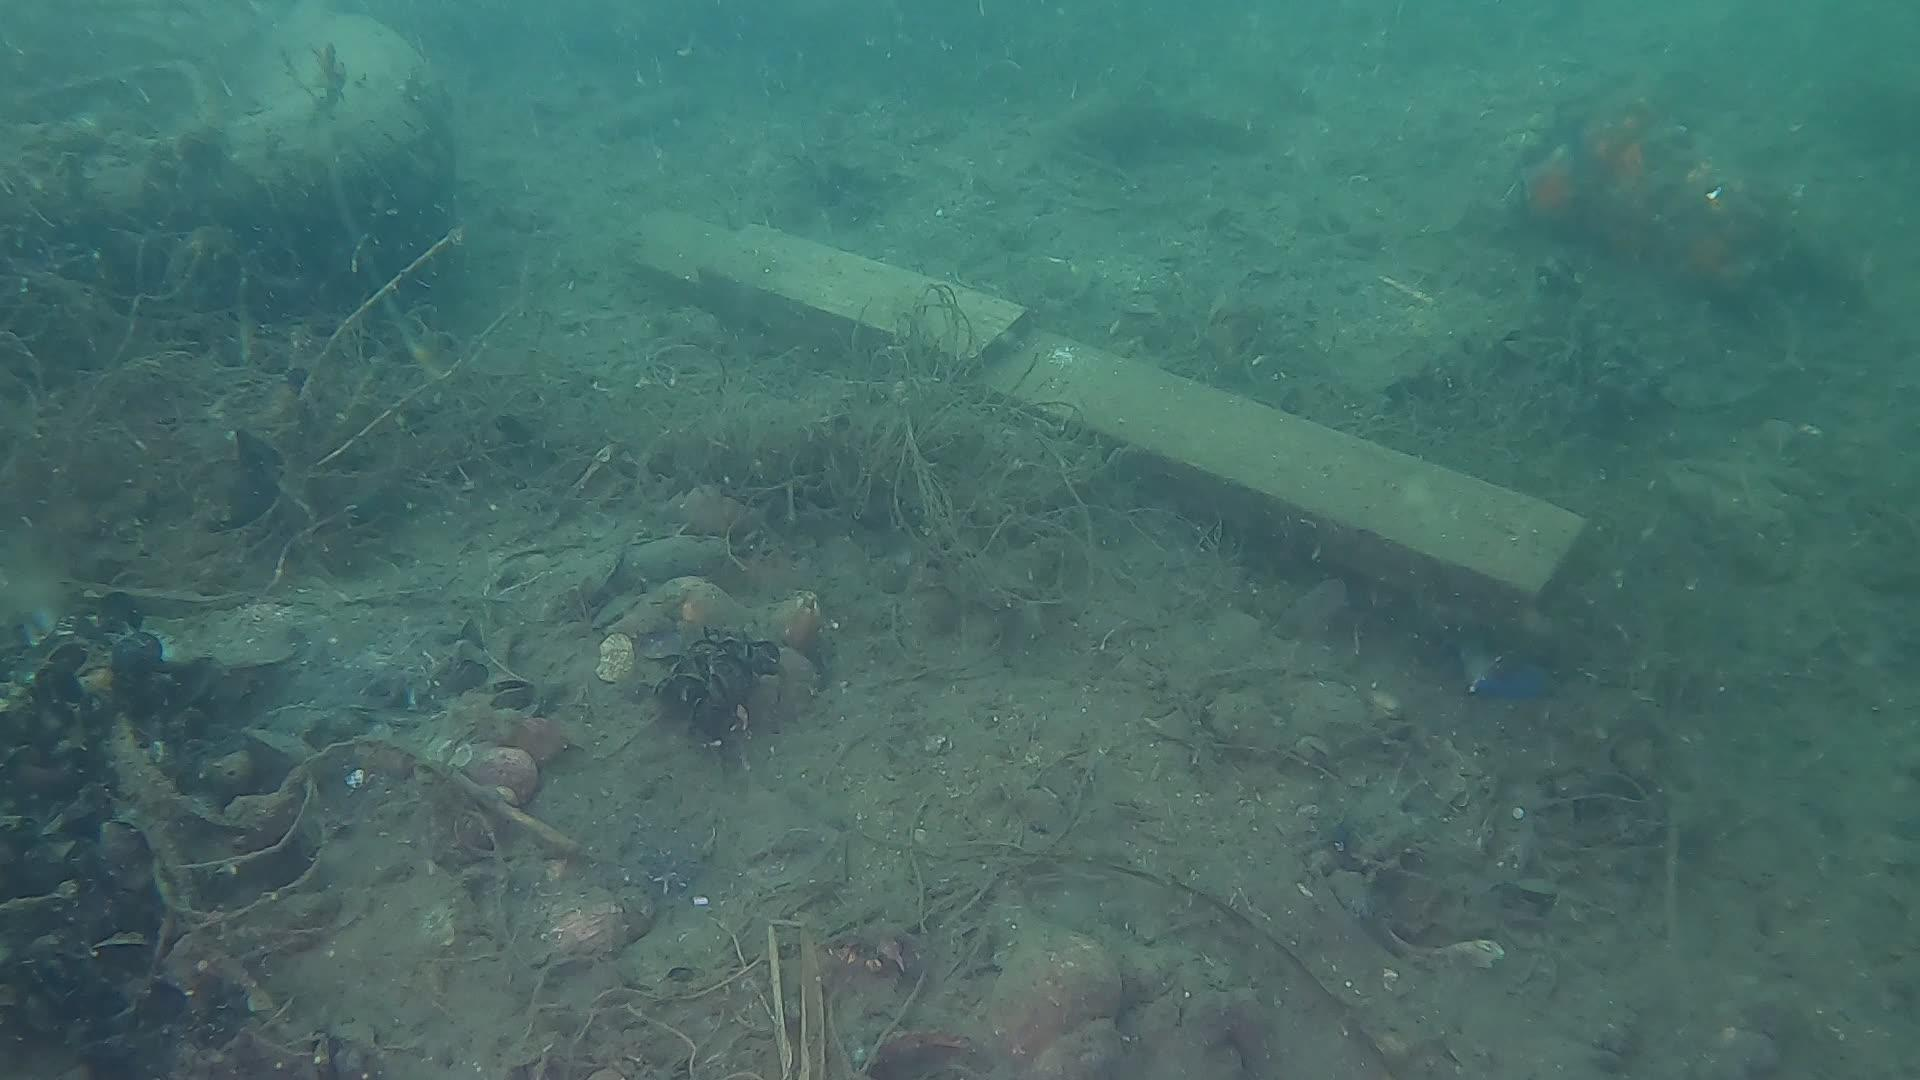wood: (626, 214, 1582, 626)
